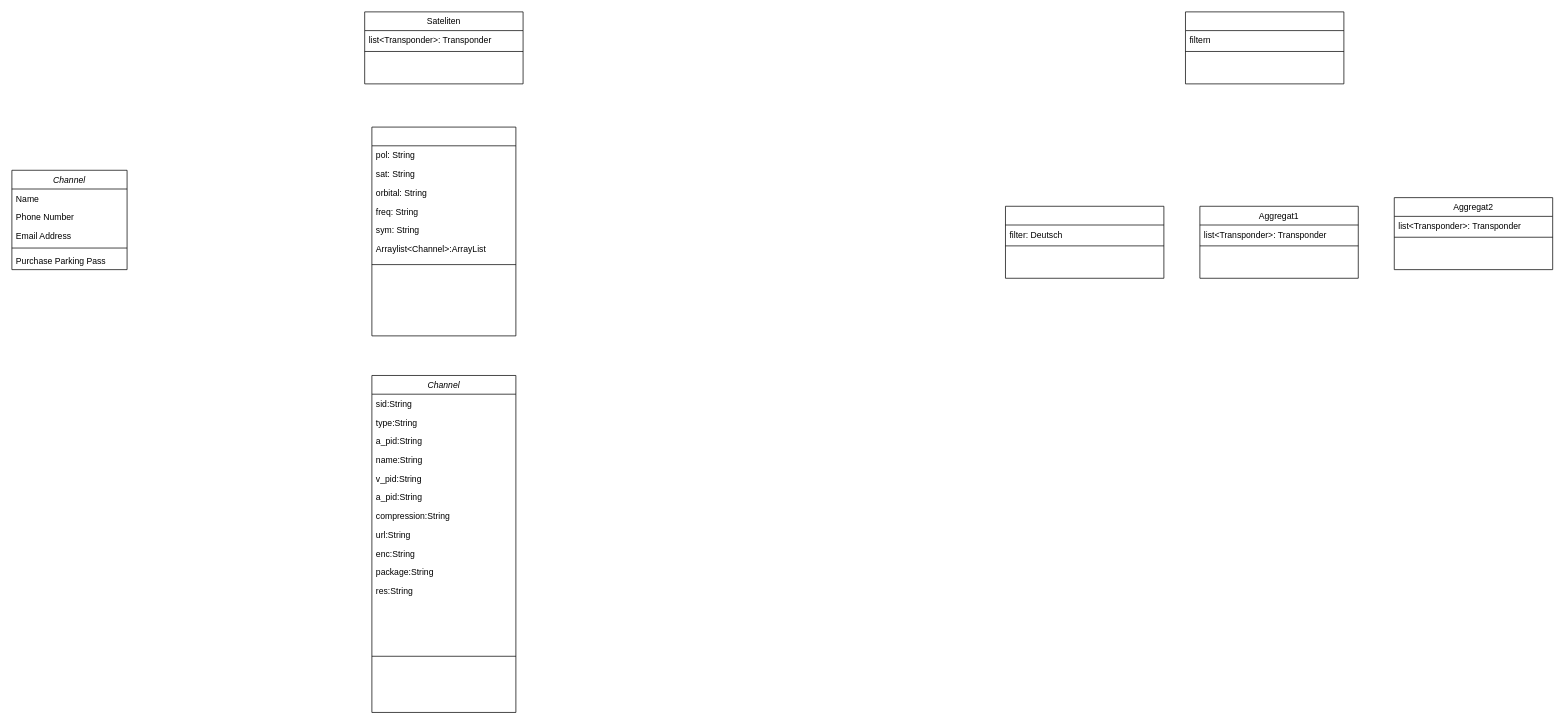
Image size: 1565x724. Some labels were removed from this diagram. Each missing label, with the box of its shape:
Aggregat nach Sprache: (1005, 206, 1164, 278)
Inteface Aggregat: (1185, 11, 1344, 84)
Transponder: (371, 126, 516, 336)
